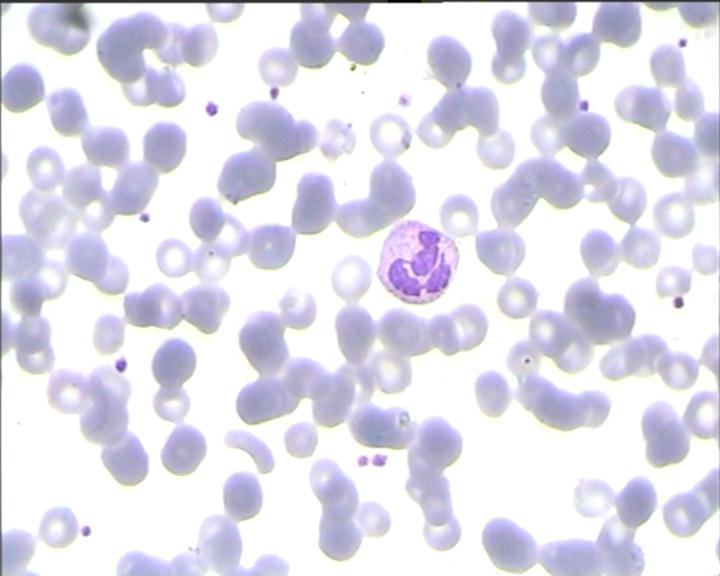neut: (371, 219, 461, 309)
